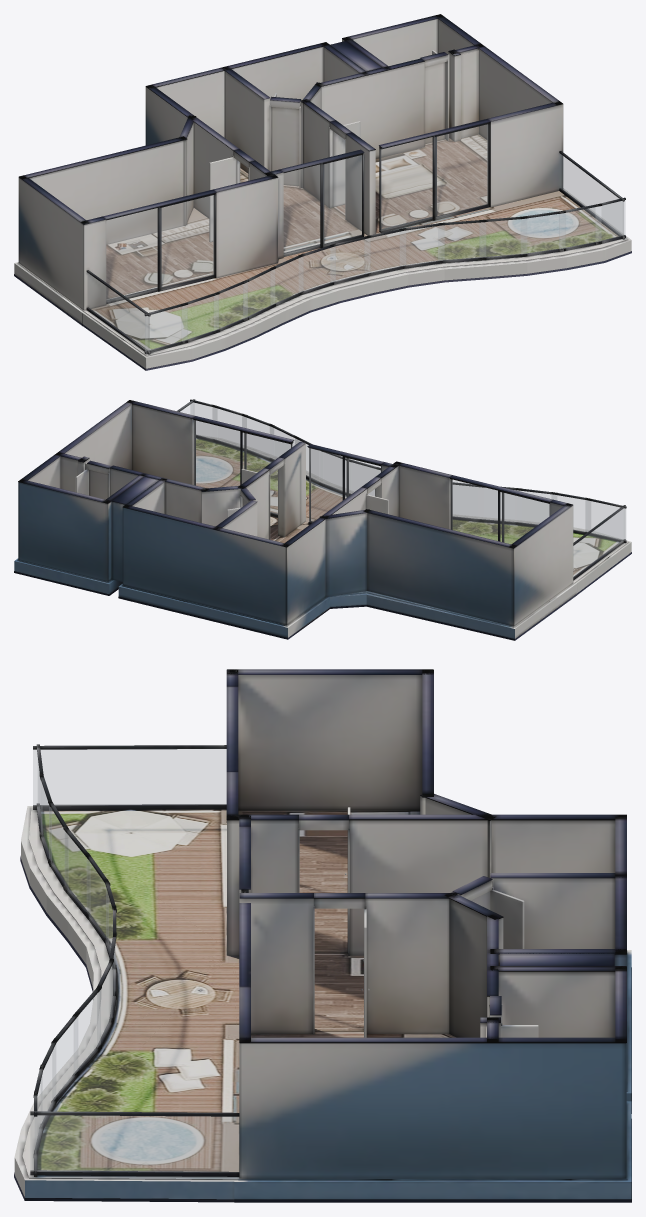
3 renders of one model, top to bottom at view 1: azimuth 30°, elevation 25°; view 2: azimuth 150°, elevation 25°; view 3: azimuth 270°, elevation 25°, orthographic. The views are drawn at different scales.
Parts seen in each view (by area): view 1: plan, glass2_m, glass0_m, glass1_m, railg15_m, railg0_m, railg7_m, railg6_m, railg4_m, railg5_m, railg3_m, railg14_m (+8 smaller); view 2: plan, glass2_m, glass0_m, glass1_m, railg15_m, railg14_m, railg10_m, railg3_m, railg11_m, railg12_m, railg5_m, railg13_m (+5 smaller); view 3: plan, railg0_m, railg15_m, railg7_m, railg11_m, railg6_m, railg10_m, railg12_m, railg4_m, railg5_m.
Boxes of the visible parts, x1,y1,x2,y2 form: plan: (14,14,631,370); glass2_m: (380,124,487,230); glass0_m: (106,195,213,300); glass1_m: (284,155,361,253); railg15_m: (87,273,149,351); railg0_m: (560,154,623,236); railg7_m: (438,222,485,260); railg6_m: (479,219,526,257); railg4_m: (400,225,444,265); railg5_m: (521,213,565,254); railg3_m: (559,206,601,248); railg14_m: (145,305,187,351); plan: (14,399,631,640); glass2_m: (194,420,292,513); glass0_m: (451,479,549,543); glass1_m: (309,448,380,522); railg15_m: (573,509,624,576); railg14_m: (585,500,625,540); railg10_m: (453,485,477,518); railg3_m: (212,407,246,446); railg11_m: (484,488,520,521); railg12_m: (517,490,556,524); railg5_m: (242,416,273,457); railg13_m: (551,495,590,531); plan: (14,669,631,1202); railg0_m: (30,1115,238,1172); railg15_m: (33,749,226,805); railg7_m: (74,990,100,1074); railg11_m: (65,832,90,915); railg6_m: (53,1017,77,1100); railg10_m: (87,859,108,941); railg12_m: (49,806,68,888); railg4_m: (97,966,112,1047); railg5_m: (41,1045,55,1122).
Bounding box in the file's own units: 13.44 × 2.62 × 9.3.
2 materials, 1 textured.
